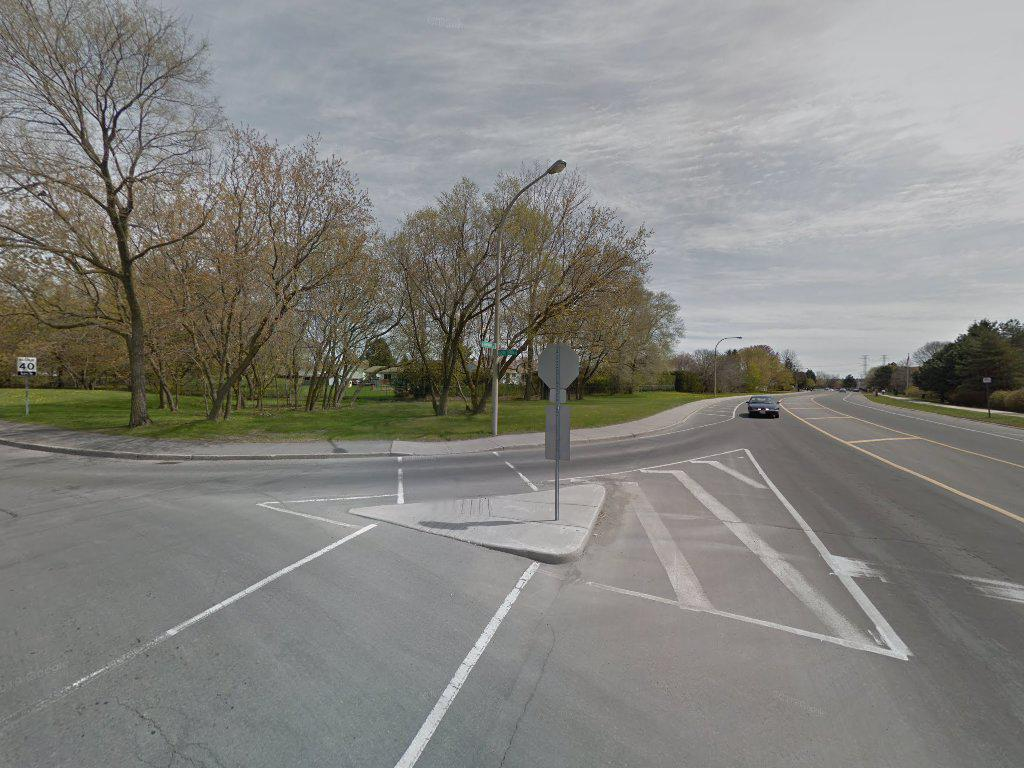trunk: (117, 269, 153, 435)
